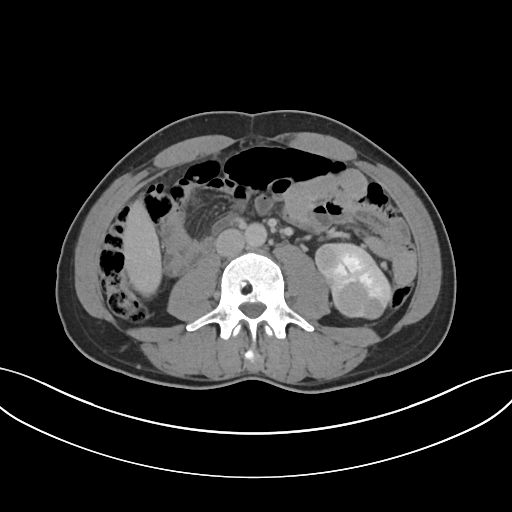Lesion: (362, 296, 386, 322)
